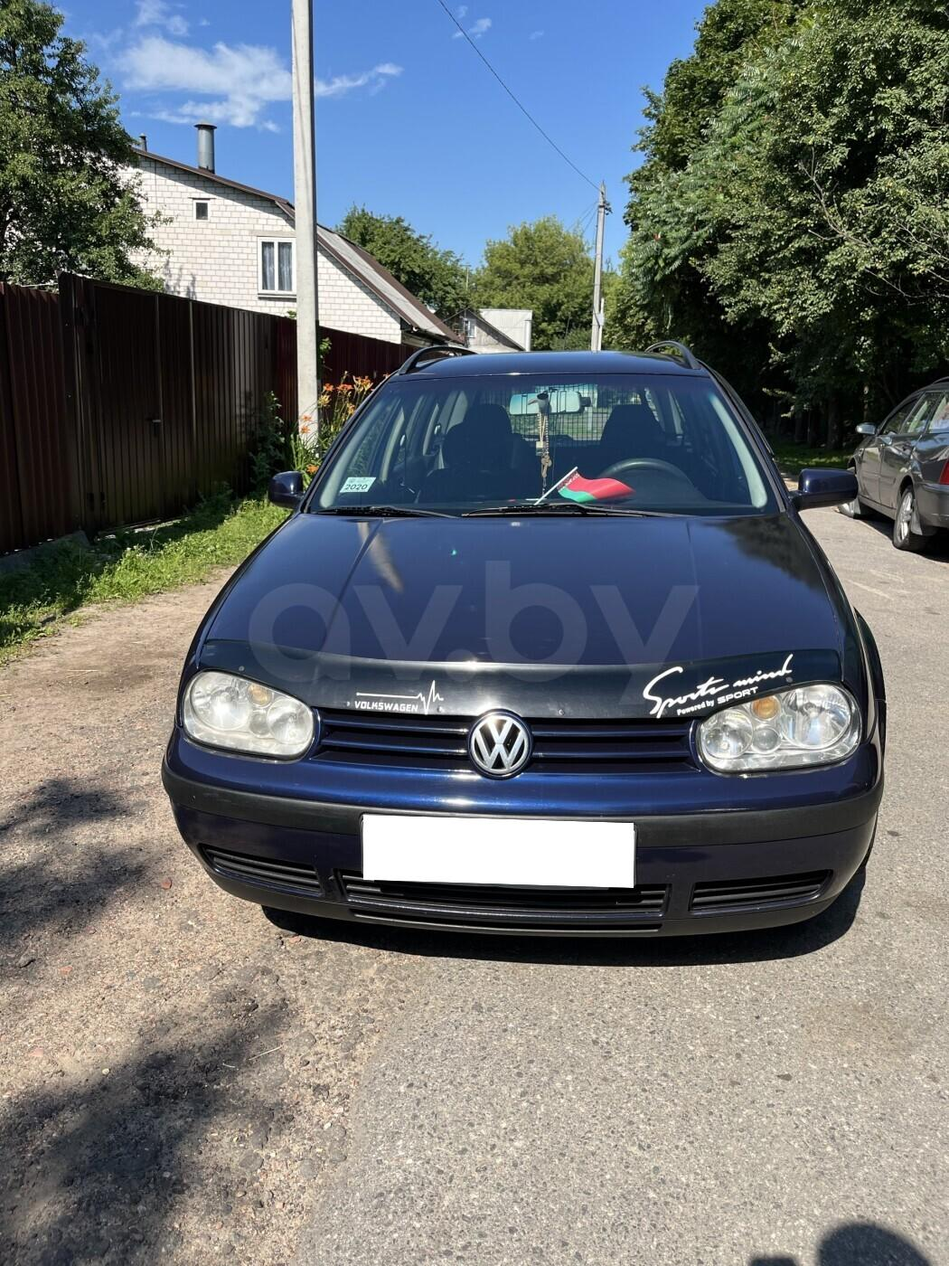Golf_1997-2006: (158, 342, 885, 958)
